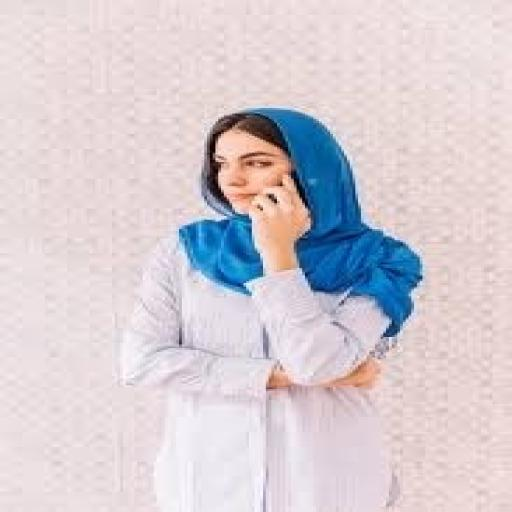calling: (115, 104, 425, 510)
